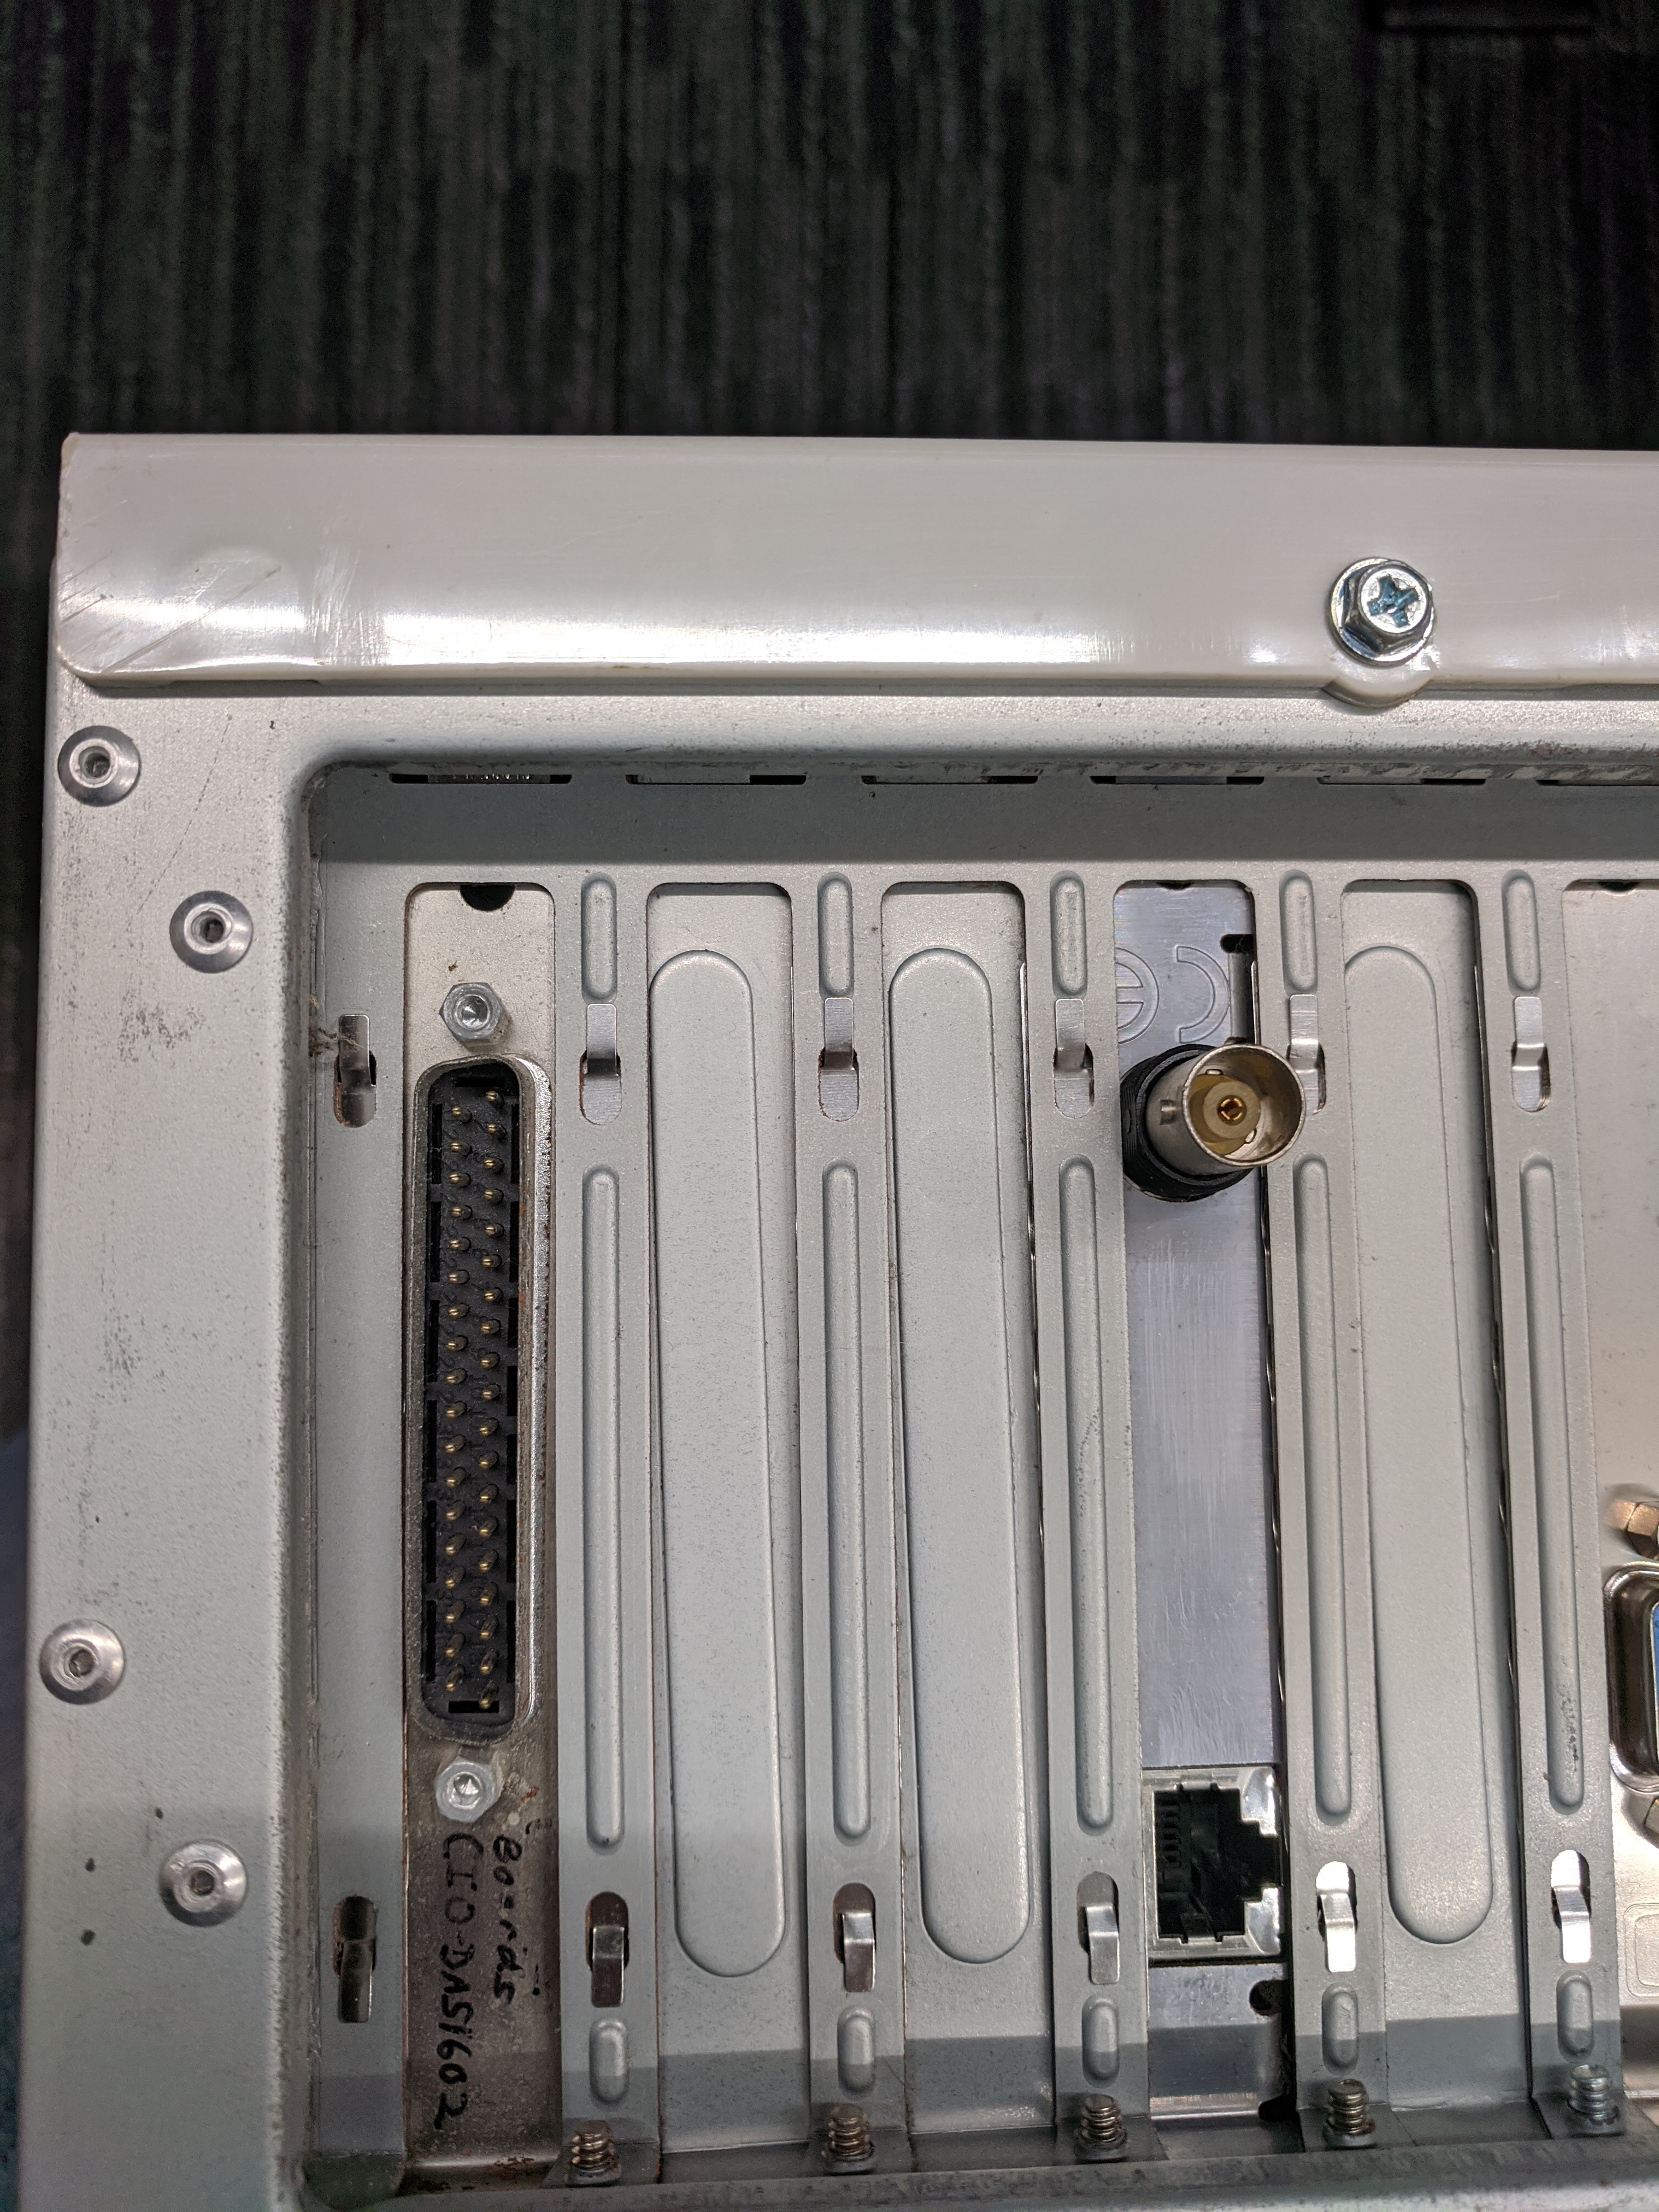cross_recessed_screw: (1333, 549, 1439, 646)
